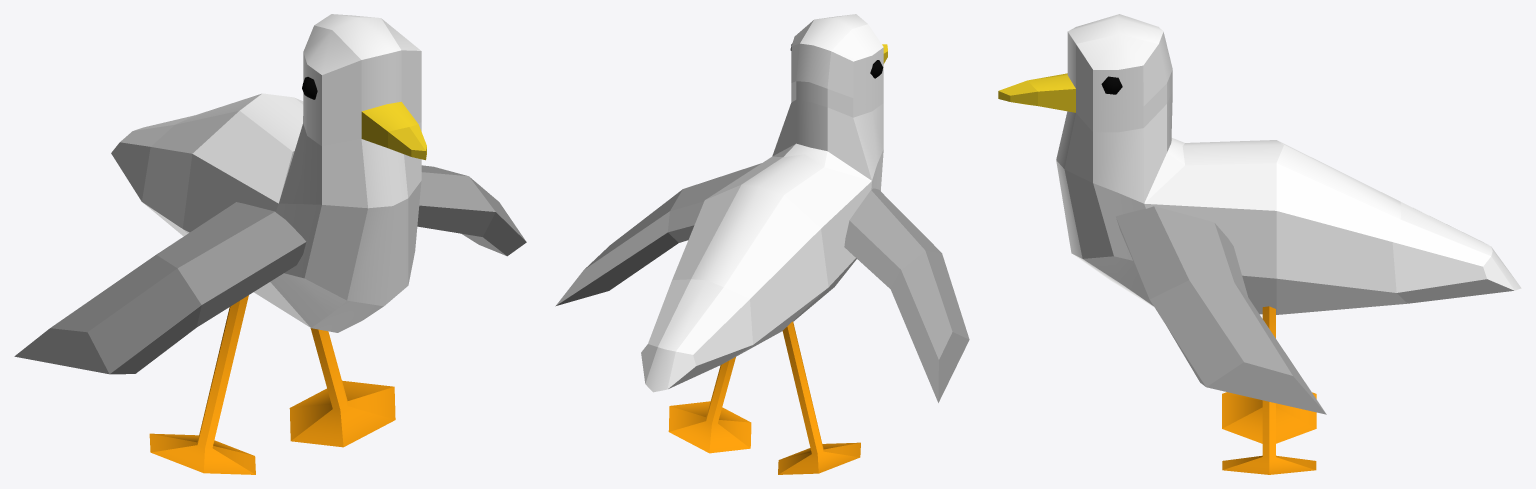
File: Bird_Down.fbx
The picture shows the model from 3 angles, left to right: view 1: azimuth 30°, elevation 25°; view 2: azimuth 150°, elevation 25°; view 3: azimuth 270°, elevation 25°; orthographic projection. The views are drawn at different scales.
Parts seen in each view (by area): view 1: polySurface2; view 2: polySurface2; view 3: polySurface2.
Part boxes in pixels (left/top/right/bottom): polySurface2: left=14, top=14, right=526, bottom=474; polySurface2: left=555, top=14, right=969, bottom=474; polySurface2: left=998, top=14, right=1521, bottom=474.
Bounding box in the file's own units: 79.61 × 79.72 × 86.88.
